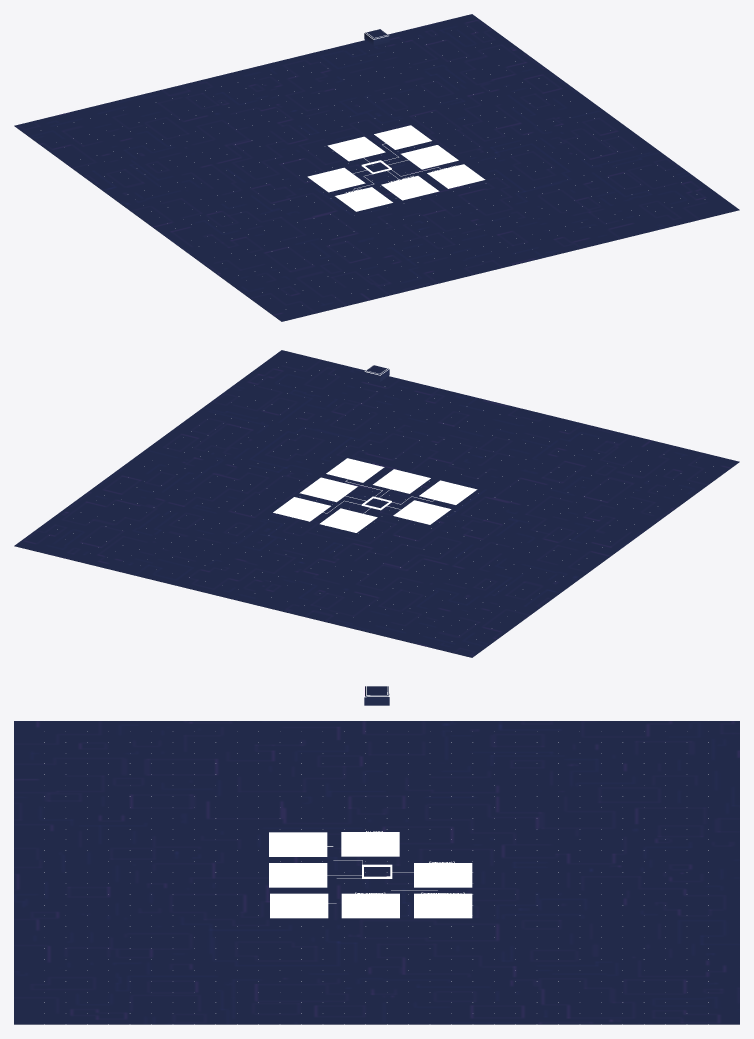
3 renders of one model, top to bottom at view 1: azimuth 30°, elevation 25°; view 2: azimuth 150°, elevation 25°; view 3: azimuth 270°, elevation 25°, orthographic. The views are drawn at different scales.
Parts seen in each view (by area): view 1: Motherboard, Cresume, Cabuot_me, Cexperience, Ctestimonials, Ccontact_me, Cskills, Cwork; view 2: Motherboard, Cabuot_me, Ccontact_me, Cexperience, Cskills, Cwork, Ctestimonials, Cresume; view 3: Motherboard, Ccontact_me, Cabuot_me, Ctestimonials, Cexperience, Cresume, Cskills, Cwork, Circle.
Boxes of the visible parts, x1,y1,x2,y2 form: Motherboard: (14,14,739,321); Cresume: (327,136,385,161); Cabuot_me: (401,145,458,169); Cexperience: (307,167,365,192); Ctestimonials: (374,125,431,149); Ccontact_me: (427,164,485,188); Cskills: (335,187,392,211); Cwork: (381,176,439,200); Motherboard: (14,350,739,657); Cabuot_me: (299,477,357,502); Ccontact_me: (326,458,384,482); Cexperience: (393,500,451,524); Cskills: (419,480,477,504); Cwork: (373,469,430,493); Ctestimonials: (273,497,330,521); Cresume: (320,508,377,532); Motherboard: (14,721,739,1024); Ccontact_me: (270,893,328,918); Cabuot_me: (341,893,399,918); Ctestimonials: (414,893,472,918); Cexperience: (341,832,399,856); Cresume: (414,863,472,887); Cskills: (269,832,327,856); Cwork: (269,863,327,887); Circle: (44,720,708,1024).
Size of what is drawn, in the model's own units: 59.79 by 16.7 by 60.25.
